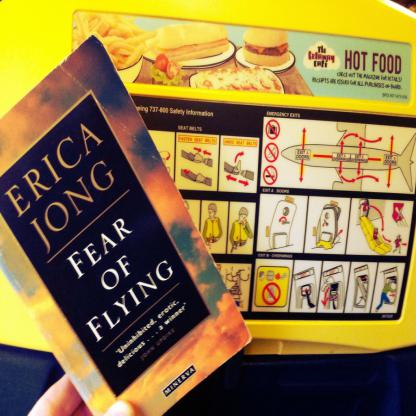book: (0, 32, 257, 416)
